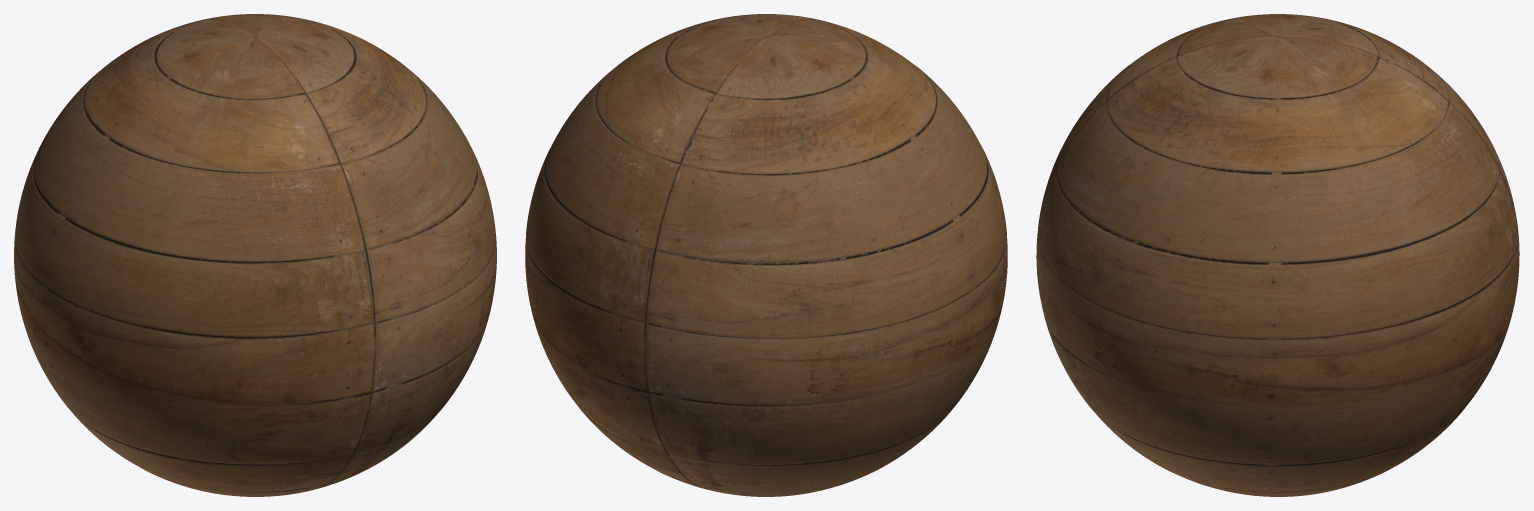
The model's file is wood_planks_1k.glb.
3 renders of one model, left to right at view 1: azimuth 30°, elevation 25°; view 2: azimuth 150°, elevation 25°; view 3: azimuth 270°, elevation 25°, orthographic.
Parts seen in each view (by area): view 1: sphere_gltf; view 2: sphere_gltf; view 3: sphere_gltf.
Part boxes in pixels (bbox=[...]): sphere_gltf: bbox=[14, 14, 496, 496]; sphere_gltf: bbox=[525, 14, 1007, 496]; sphere_gltf: bbox=[1036, 14, 1519, 496].
Size of the model in its own units: 1.5 by 1.5 by 1.5.
1 material, 1 textured.
